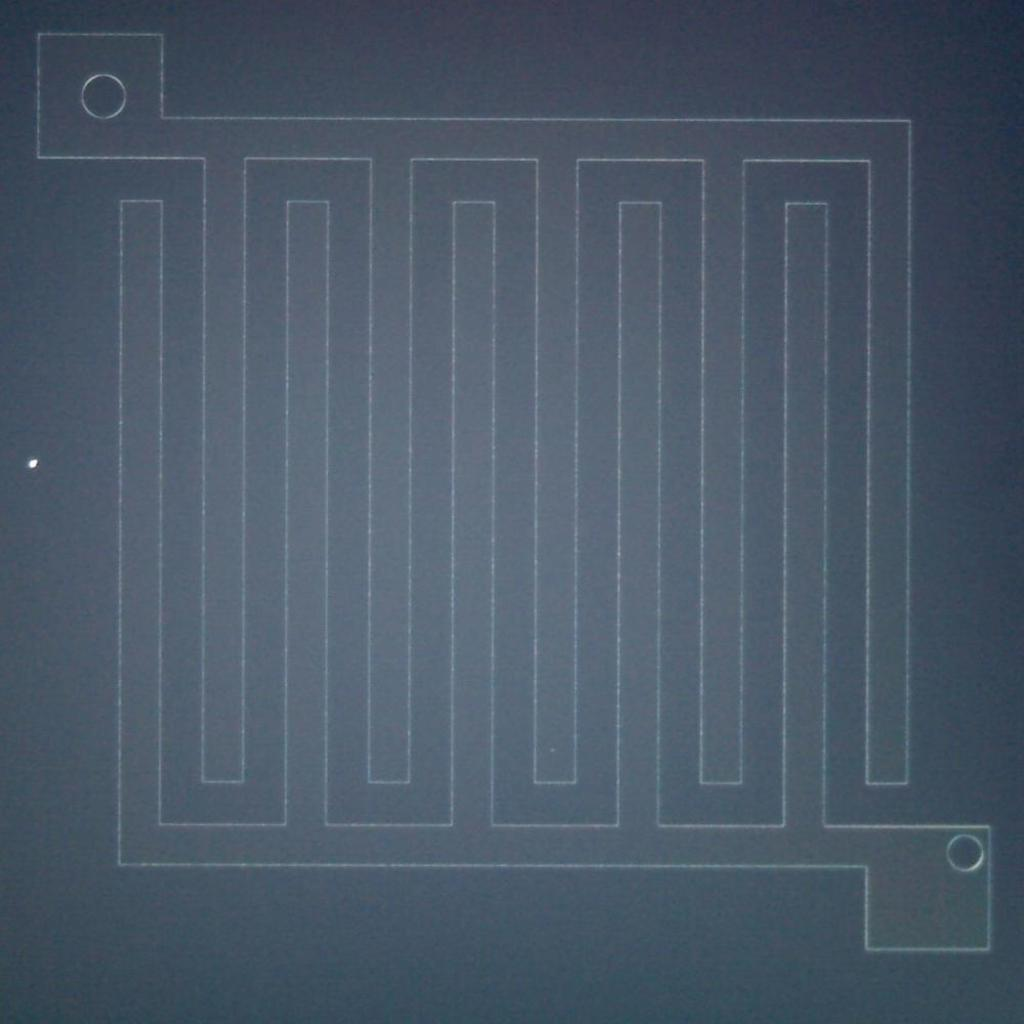dot: (28, 458, 38, 468), (550, 748, 554, 752)
